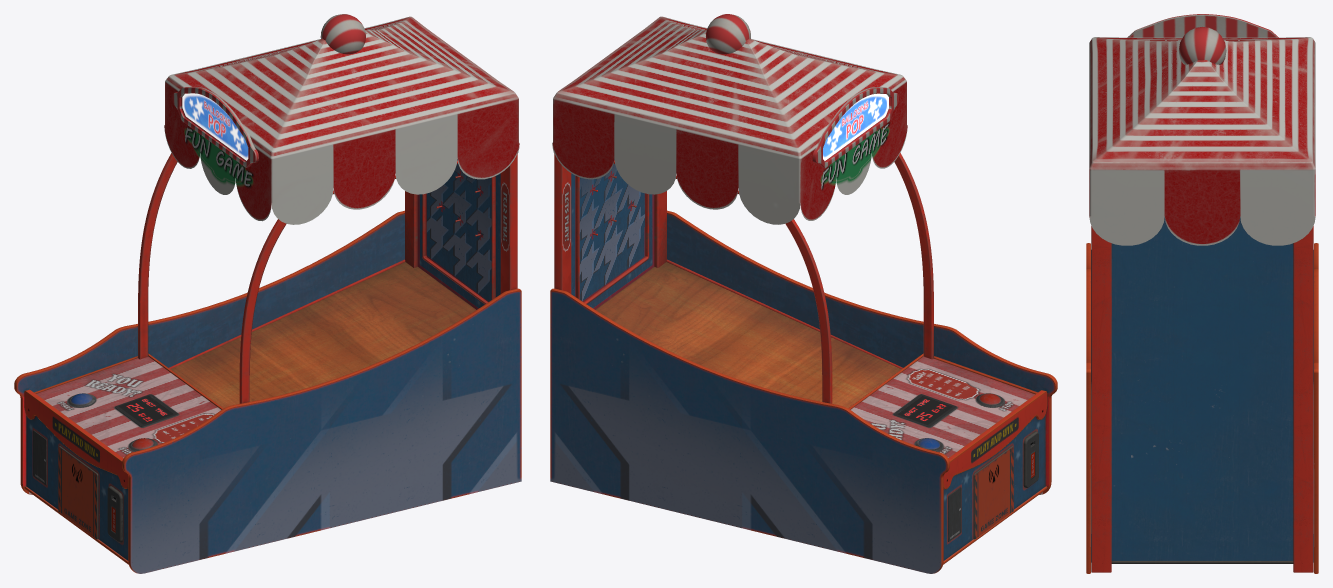
The model's file is SM_Game_Machine_01.fbx.
3 views of the same model, side by side, from view 1: azimuth 30°, elevation 25°; view 2: azimuth 150°, elevation 25°; view 3: azimuth 270°, elevation 25° (orthographic). The views are drawn at different scales.
Visible parts, largest first — view 1: SM_Game_Machine_01_LOD0; view 2: SM_Game_Machine_01_LOD0; view 3: SM_Game_Machine_01_LOD0.
Boxes of the visible parts, x1,y1,x2,y2 form: SM_Game_Machine_01_LOD0: (14,14,521,573); SM_Game_Machine_01_LOD0: (550,14,1057,573); SM_Game_Machine_01_LOD0: (1086,14,1318,573).
Size of the model in its own units: 293 by 140 by 321.
Materials: 2 (2 with a texture image).
